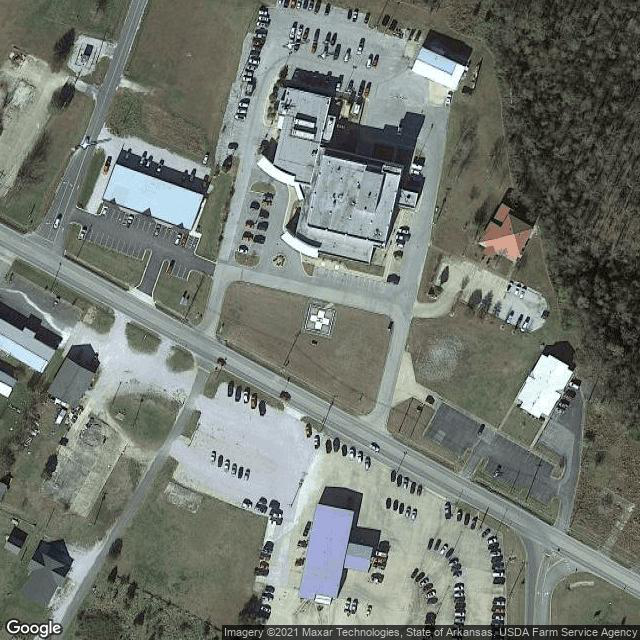Helipad: (303, 300, 337, 336)
